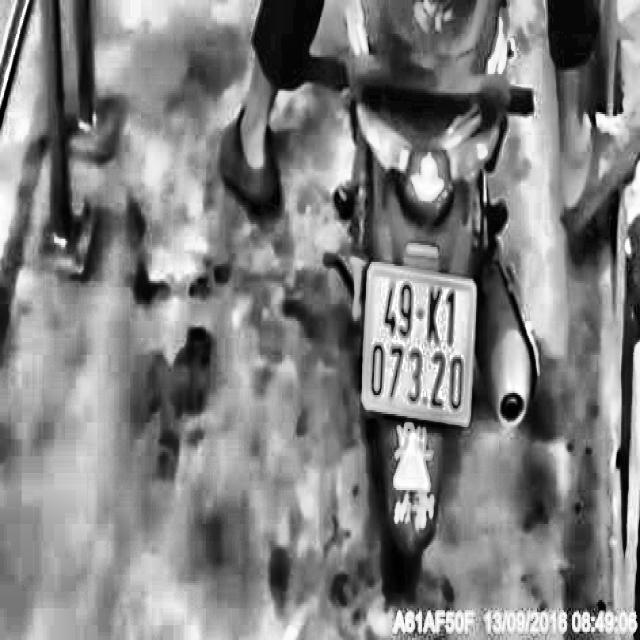plate: (358, 256, 482, 435)
